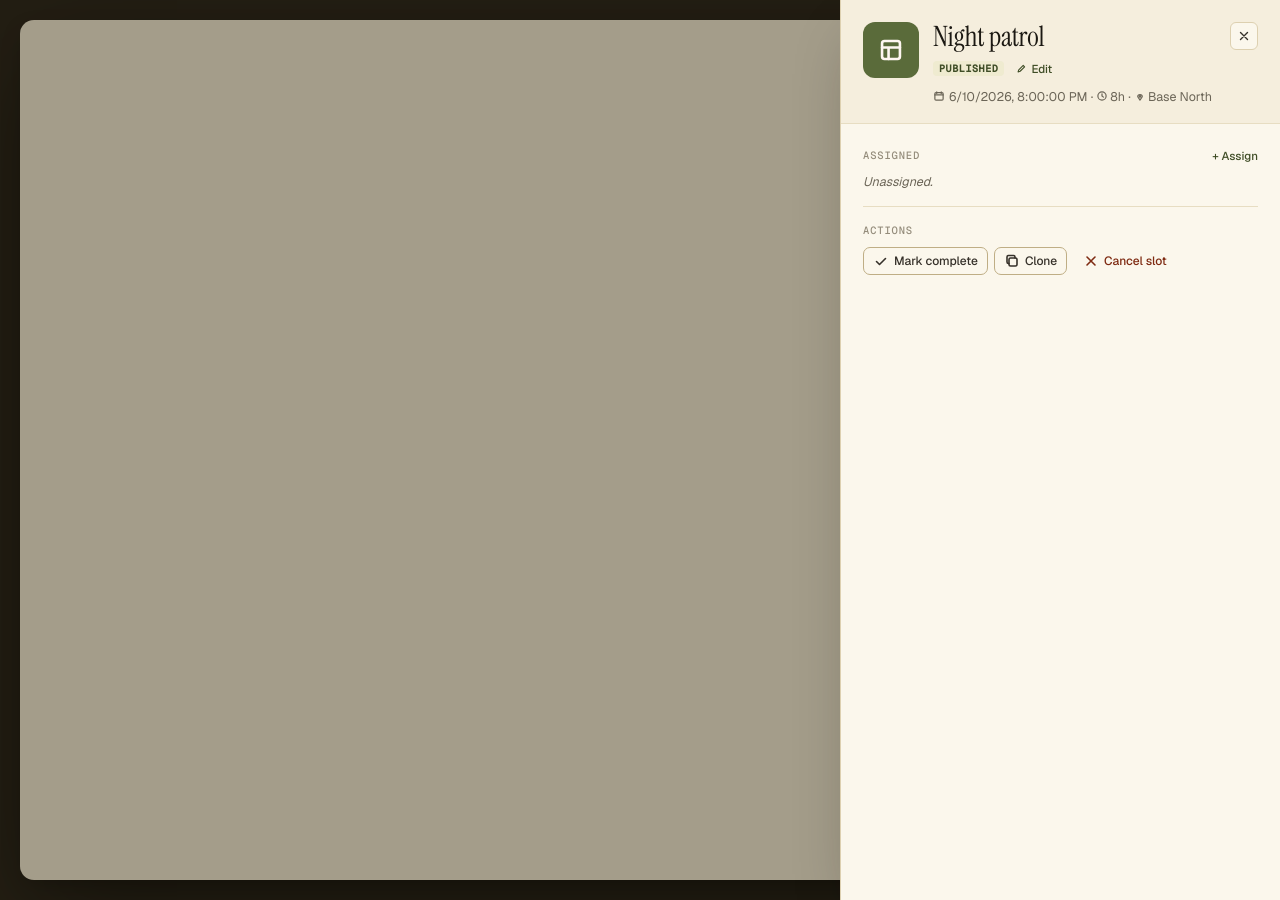
Test: SlotDrawer › filters candidates to available + standby (excludes unavailable)
Click the button "+ Assign".
click(1235, 155)  # box [1212,148,1258,163]
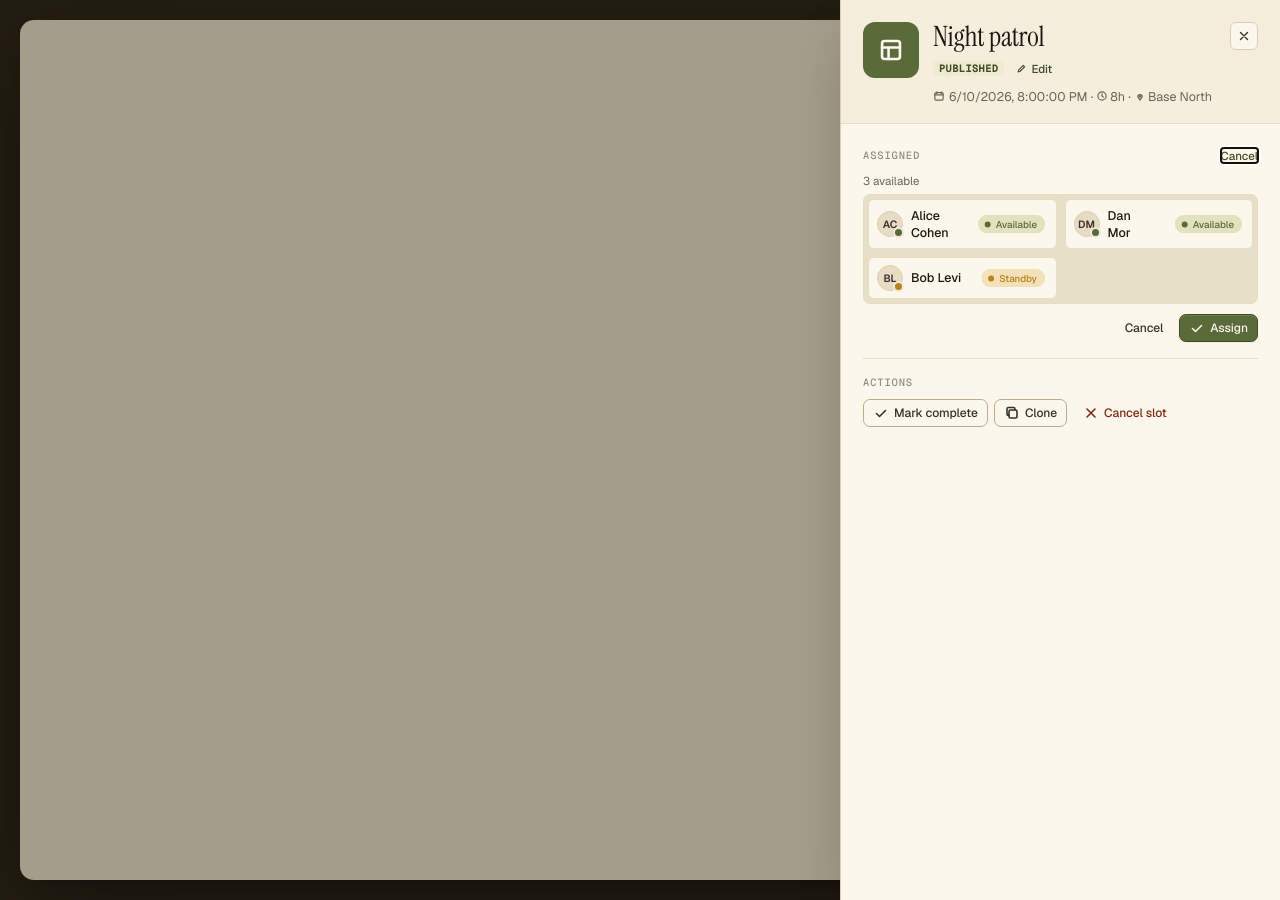
expect the text "Alice Cohen" is shown: met, box [911,207,949,241]
expect the text "Bob Levi" is shown: met, box [911,269,962,286]
expect the text "Dan Mor" is shown: met, box [1108,207,1131,241]
